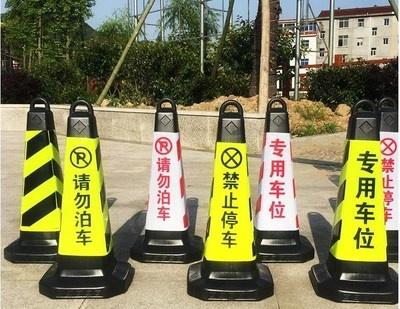cone_barrel: (316, 106, 397, 295), (193, 102, 266, 295), (50, 99, 122, 284), (132, 101, 199, 262), (6, 100, 68, 257), (251, 112, 309, 260)
